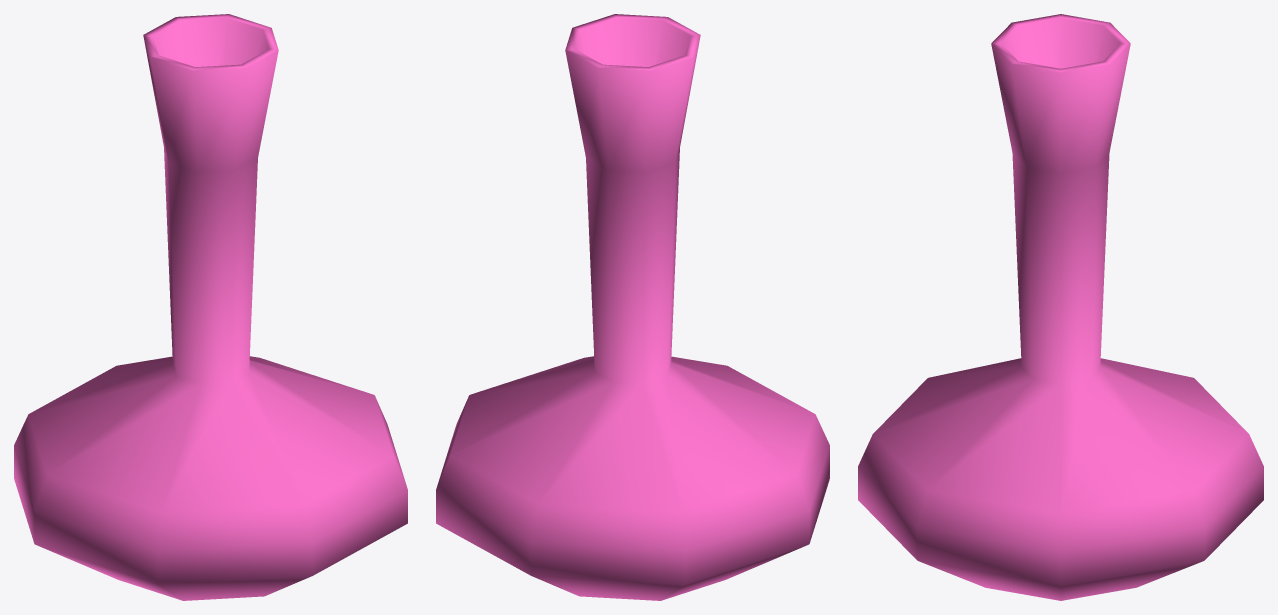
Rendered from Vase_06.FBX.
The picture shows the model from 3 angles, left to right: view 1: azimuth 30°, elevation 25°; view 2: azimuth 150°, elevation 25°; view 3: azimuth 270°, elevation 25°; orthographic projection.
Visible parts, largest first — view 1: Vase; view 2: Vase; view 3: Vase.
Boxes of the visible parts, left/top/right/bottom form: Vase: left=14, top=14, right=407, bottom=600; Vase: left=436, top=14, right=829, bottom=600; Vase: left=858, top=14, right=1263, bottom=600.
Bounding box in the file's own units: 72.06 × 100 × 72.06.
